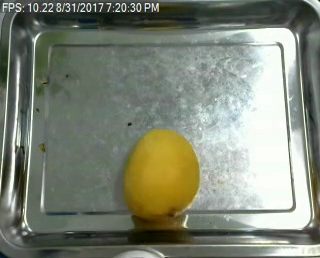Mango: (121, 126, 200, 217)
